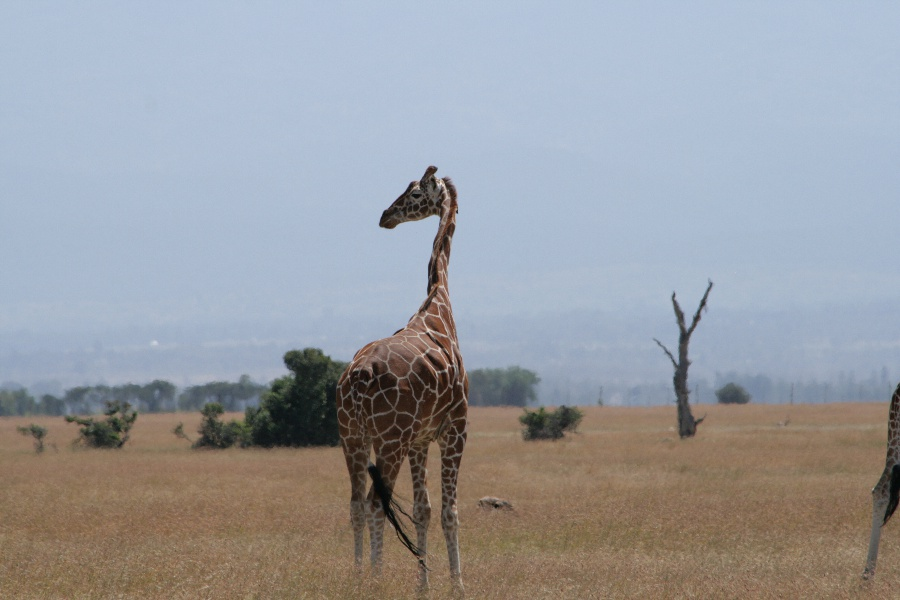giraffe: (324, 157, 493, 589)
